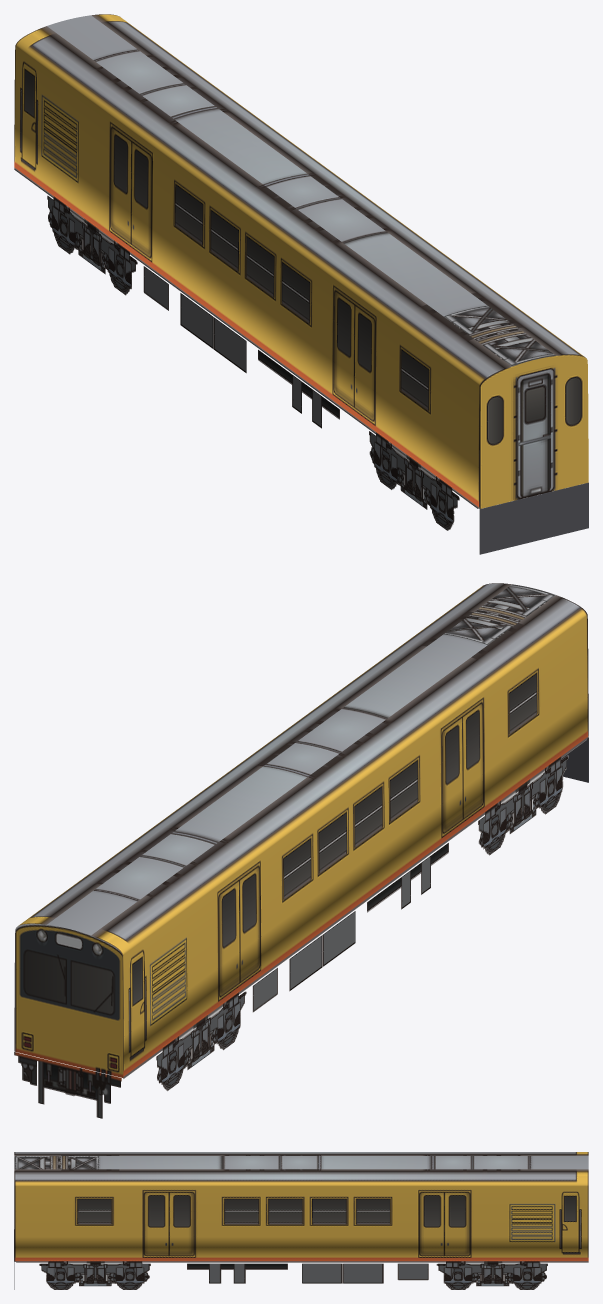
Rendered from car2.glb.
3 renders of one model, top to bottom at view 1: azimuth 30°, elevation 25°; view 2: azimuth 150°, elevation 25°; view 3: azimuth 270°, elevation 25°, orthographic. The views are drawn at different scales.
Visible parts, largest first — view 1: sangi-270-car2; view 2: sangi-270-car2; view 3: sangi-270-car2.
Part boxes in pixels (left/top/right/bottom): sangi-270-car2: left=14, top=14, right=588, bottom=554; sangi-270-car2: left=14, top=583, right=588, bottom=1118; sangi-270-car2: left=14, top=1152, right=588, bottom=1289.
Size of the model in its own units: 2.11 by 3.35 by 15.63.
Materials: 8 (7 with a texture image).
